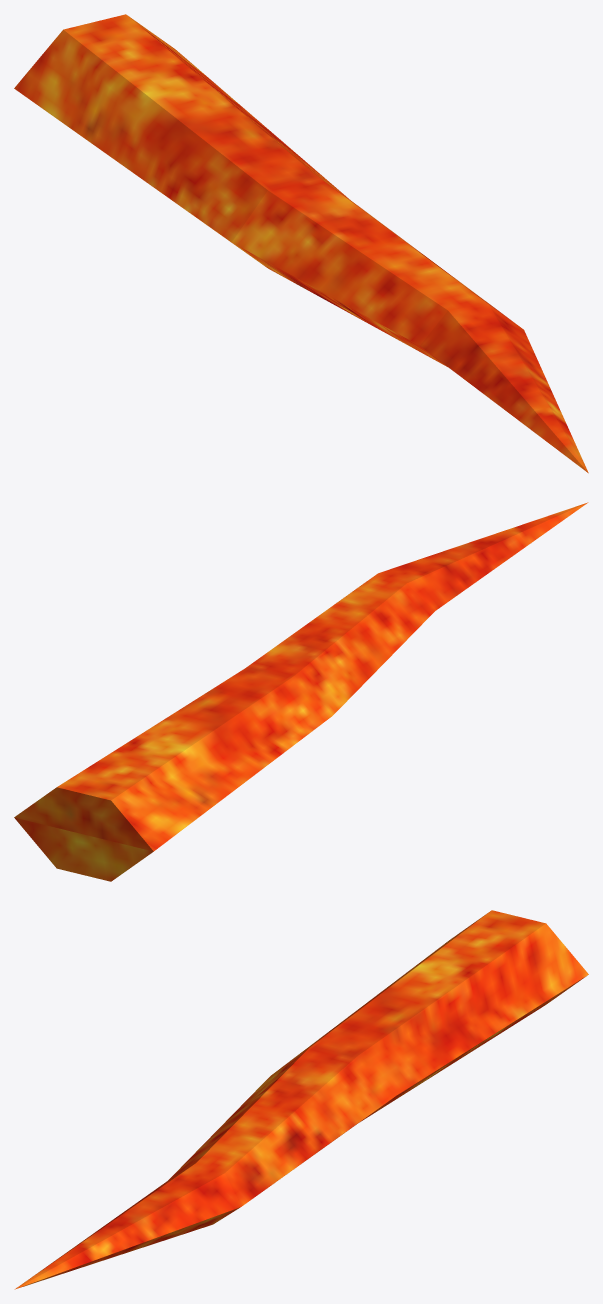
File: cinderblade.obj
3 views of the same model, one above another, from view 1: azimuth 30°, elevation 25°; view 2: azimuth 150°, elevation 25°; view 3: azimuth 330°, elevation 25° (orthographic). The views are drawn at different scales.
Parts seen in each view (by area): view 1: Base; view 2: Base; view 3: Base.
Boxes of the visible parts, bbox=[...] form: Base: bbox=[14, 14, 588, 473]; Base: bbox=[14, 502, 588, 881]; Base: bbox=[14, 910, 588, 1289].
Size of the model in its own units: 0.2177 by 0.121 by 1.26.
